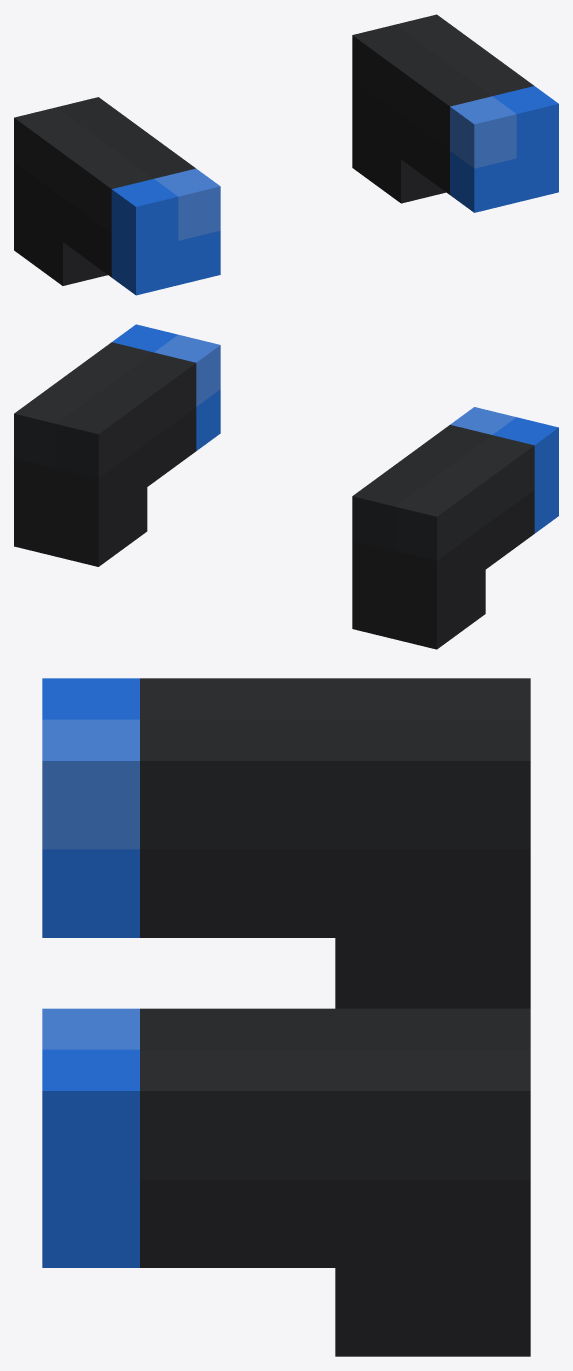
The model's file is johnnyguys.obj.
The picture shows the model from 3 angles, top to bottom: view 1: azimuth 30°, elevation 25°; view 2: azimuth 150°, elevation 25°; view 3: azimuth 270°, elevation 25°; orthographic projection. The views are drawn at different scales.
Visible parts, largest first — view 1: johnnyguys; view 2: johnnyguys; view 3: johnnyguys.
Boxes of the visible parts, box(x1,y1,x2,y2) form: johnnyguys: box(14, 14, 558, 295); johnnyguys: box(14, 324, 558, 649); johnnyguys: box(42, 678, 530, 1356).
Bounding box in the file's own units: 10 × 3 × 5.
Materials: 1 (1 with a texture image).
